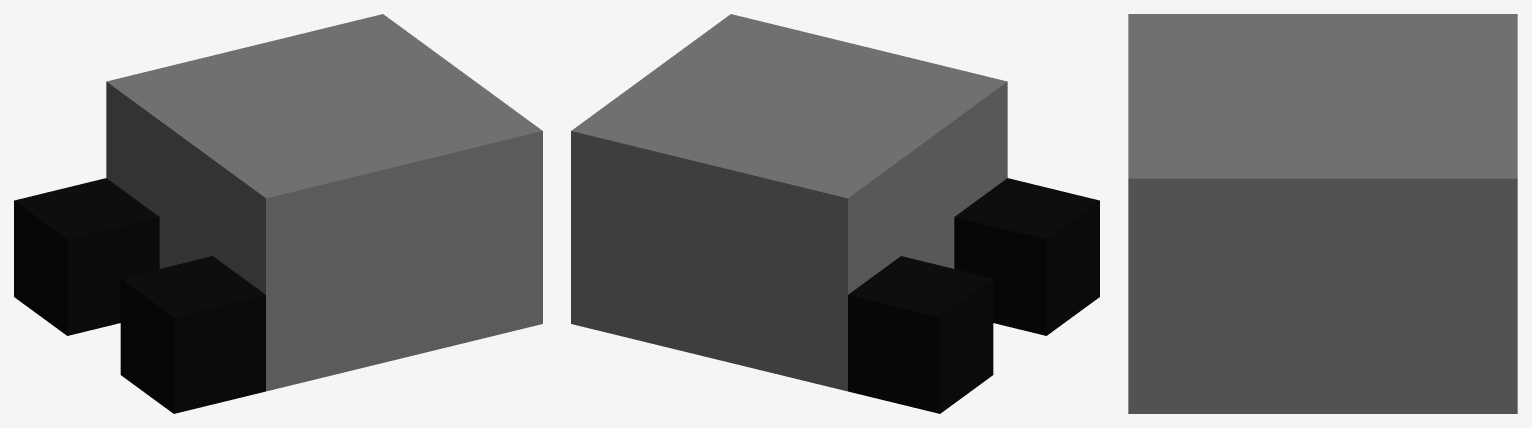
Rendered from foot.dae.
3 views of the same model, side by side, from view 1: azimuth 30°, elevation 25°; view 2: azimuth 150°, elevation 25°; view 3: azimuth 270°, elevation 25° (orthographic). The views are drawn at different scales.
Visible parts, largest first — view 1: foot; view 2: foot; view 3: foot.
Boxes of the visible parts, x1=… form: foot: x1=14, y1=14, x2=542, y2=413; foot: x1=571, y1=14, x2=1099, y2=413; foot: x1=1128, y1=14, x2=1517, y2=413.
Size of the model in its own units: 4 by 2 by 3.
1 material, 1 textured.
